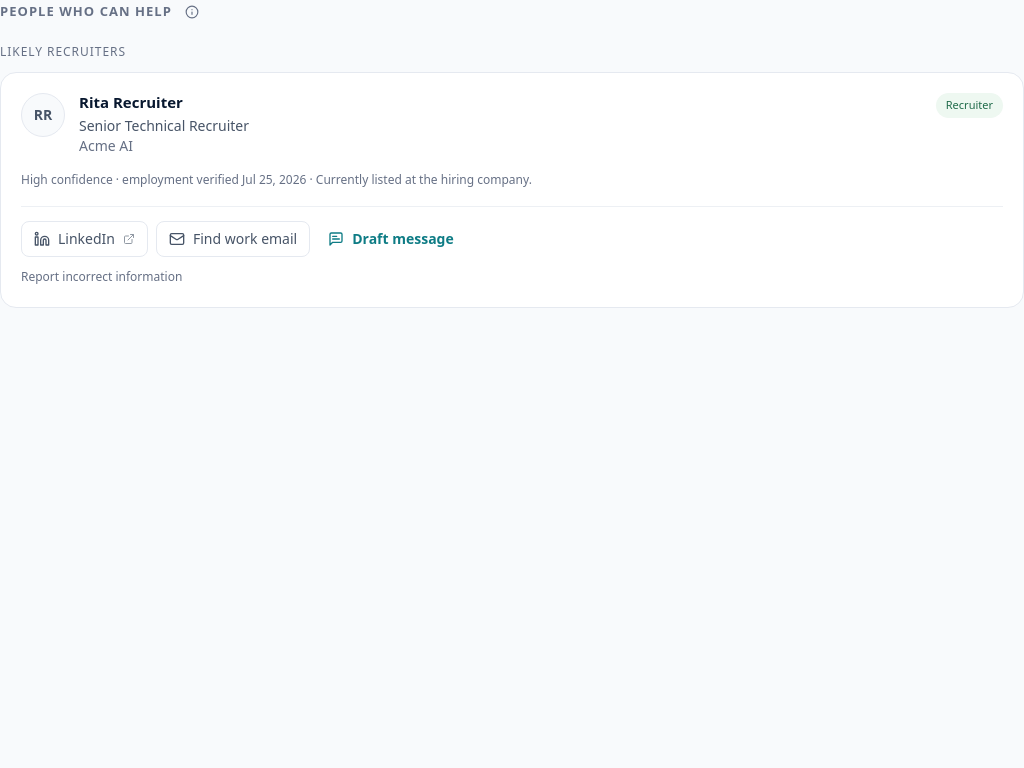
Test case: Improve with AI › shows the deterministic draft immediately and offers the AI action
This screenshot has width=1024, height=768.
Click the button "Draft message" at (391, 239), box top-left (318, 221), bottom-right (464, 257)
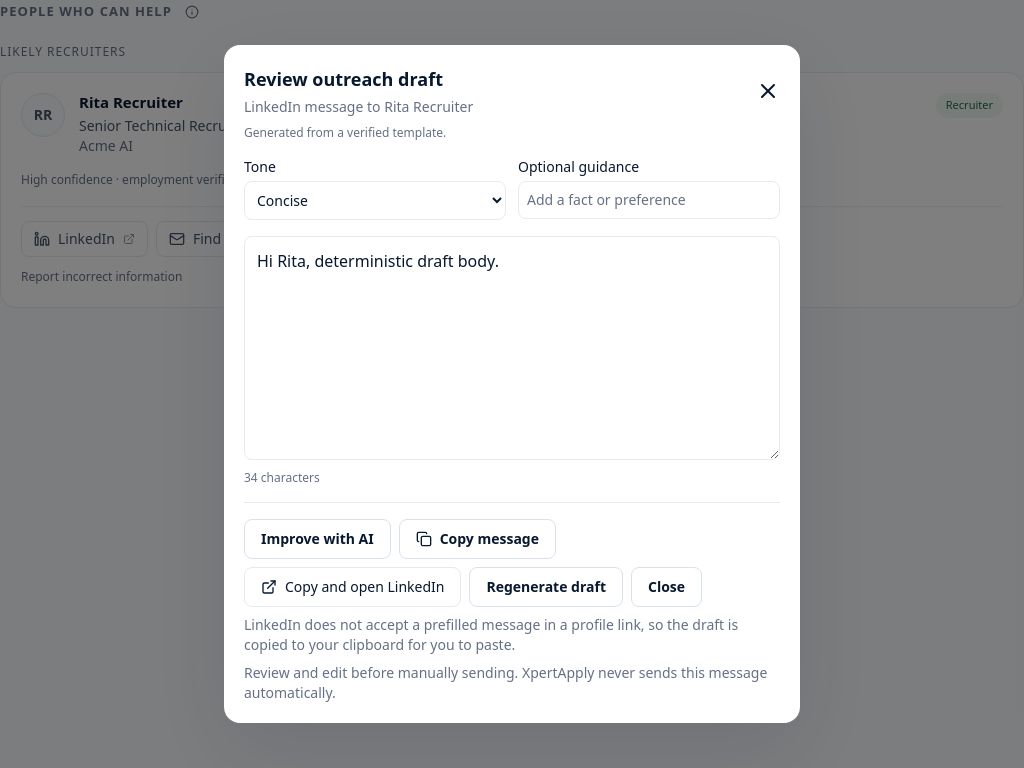
expect the text box "Hi Rita, deterministic draft body." is shown: met, box top-left (244, 236), bottom-right (780, 460)
expect the button "Improve with AI" is shown: met, box top-left (244, 519), bottom-right (391, 559)
